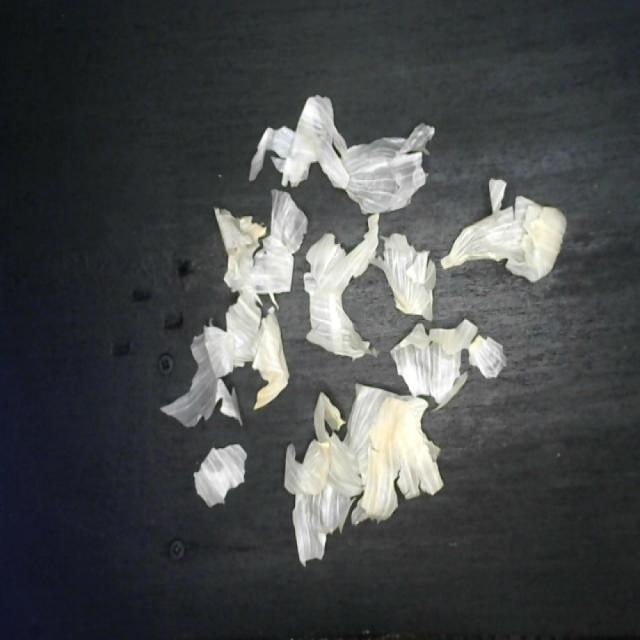biodegradable: (152, 90, 570, 572)
